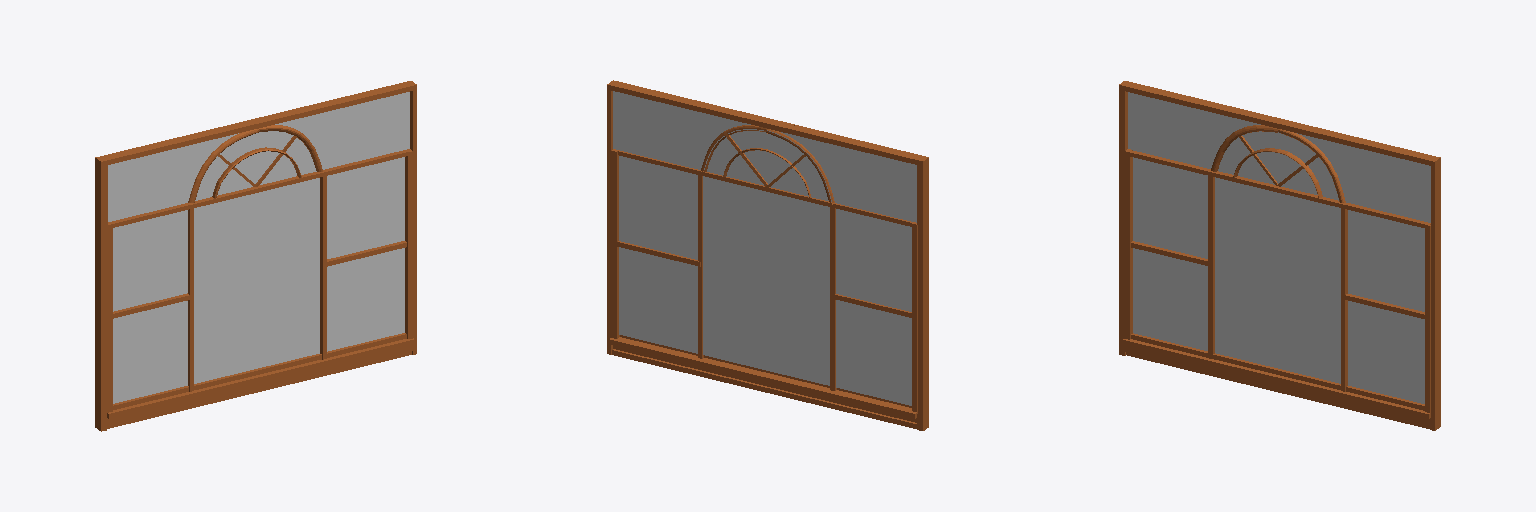
File: window.obj
3 views of the same model, side by side, from view 1: azimuth 30°, elevation 25°; view 2: azimuth 150°, elevation 25°; view 3: azimuth 330°, elevation 25° (orthographic).
Visible parts, largest first — view 1: sweethome3d_window_pane_17, Boolean_1_16, Cube_6_3_4, Cube_5_3, Cube_2_9, Cube_6_2_6, sill_18, Cube_6_1_8, Cube_3_7, Cube_5_2_21, Cube_6_1, Cube_6_4_2 (+6 smaller); view 2: sweethome3d_window_pane_17, Cube_5_3, Cube_6_3_4, Boolean_1_16, Cube_6_4_2, Cube_2_9, Cube_6_1_8, Cube_5_3_20, Cube_5_2_21, Cube_6_1, Cube_1_11, Cube_6_2_6 (+2 smaller); view 3: sweethome3d_window_pane_17, Cube_5_3_20, Cube_6_3_4, Cube_5_3, Boolean_1_16, Cube_2_9, Cube_6_2_6, sill_18, Cube_6_1, Cube_1_11, Cube_3_7, Cube_6_1_8 (+5 smaller).
Boxes of the visible parts, <box> form: sweethome3d_window_pane_17: <box>108,92,409,403</box>; Boolean_1_16: <box>95,82,410,428</box>; Cube_6_3_4: <box>102,82,412,165</box>; Cube_5_3: <box>107,338,414,418</box>; Cube_2_9: <box>111,149,410,227</box>; Cube_6_2_6: <box>107,345,412,425</box>; sill_18: <box>113,333,406,409</box>; Cube_6_1_8: <box>405,149,413,338</box>; Cube_3_7: <box>320,176,326,359</box>; Cube_5_2_21: <box>95,160,106,431</box>; Cube_6_1: <box>107,222,112,412</box>; Cube_6_4_2: <box>107,351,411,428</box>; sweethome3d_window_pane_17: <box>613,91,916,405</box>; Cube_5_3: <box>609,337,916,418</box>; Cube_6_3_4: <box>611,81,921,164</box>; Boolean_1_16: <box>613,85,928,427</box>; Cube_6_4_2: <box>612,349,916,428</box>; Cube_2_9: <box>615,149,912,226</box>; Cube_6_1_8: <box>611,149,619,338</box>; Cube_5_3_20: <box>607,80,616,354</box>; Cube_5_2_21: <box>917,161,928,430</box>; Cube_6_1: <box>912,222,917,413</box>; Cube_1_11: <box>830,204,836,390</box>; Cube_6_2_6: <box>613,345,916,422</box>; sweethome3d_window_pane_17: <box>1128,92,1430,403</box>; Cube_5_3_20: <box>1431,157,1440,430</box>; Cube_6_3_4: <box>1124,82,1435,165</box>; Cube_5_3: <box>1123,339,1430,418</box>; Boolean_1_16: <box>1119,81,1434,354</box>; Cube_2_9: <box>1130,151,1430,227</box>; Cube_6_2_6: <box>1125,345,1430,425</box>; sill_18: <box>1131,333,1424,410</box>; Cube_6_1: <box>1124,149,1132,339</box>; Cube_1_11: <box>1208,176,1214,358</box>; Cube_3_7: <box>1341,208,1347,391</box>; Cube_6_1_8: <box>1425,225,1430,413</box>.
Size of the model in its own units: 213 by 174 by 11.75.